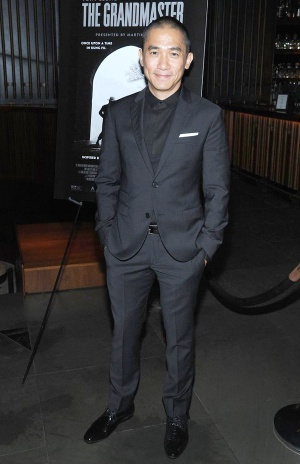male: (133, 16, 199, 99)
